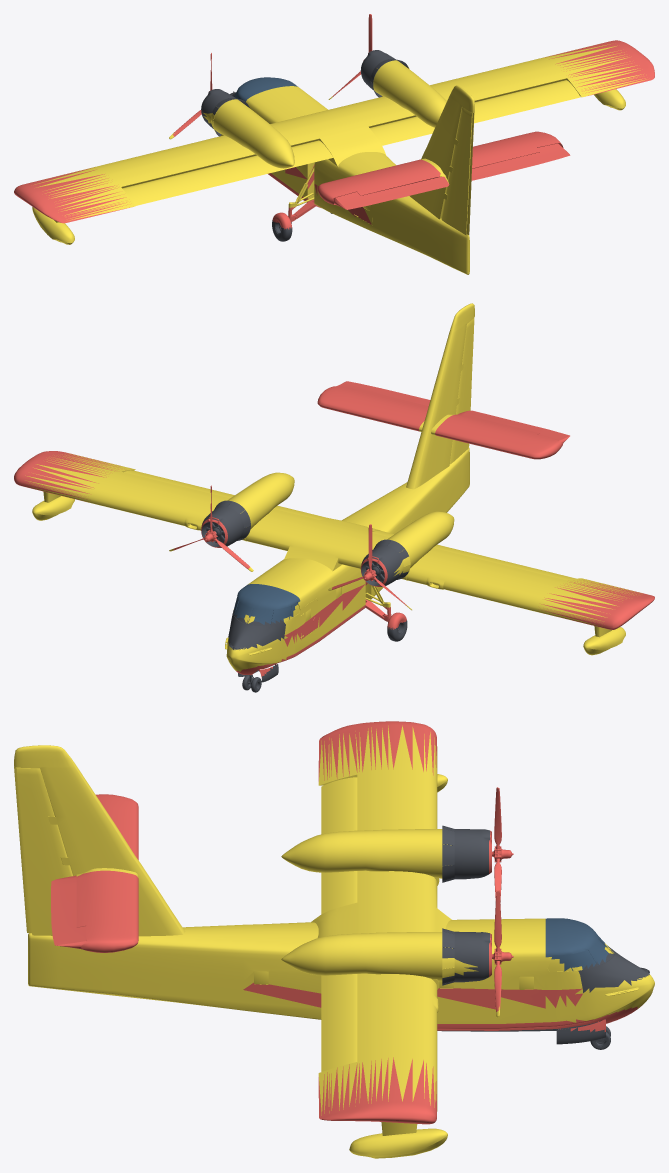
Rendered from amphibian.glb.
3 views of the same model, one above another, from view 1: azimuth 30°, elevation 25°; view 2: azimuth 150°, elevation 25°; view 3: azimuth 270°, elevation 25° (orthographic). The views are drawn at different scales.
Parts seen in each view (by area): view 1: Airframe, LandingGear, Fan Blades R; view 2: Airframe, LandingGear, Fan Blades L, Fan Blades R; view 3: Airframe, LandingGear, Fan Blades R, Fan Blades L.
Boxes of the visible parts, x1,y1,x2,y2 form: Airframe: (14,40,654,274); LandingGear: (268,173,332,241); Fan Blades R: (332,14,383,96); Airframe: (14,303,654,671); LandingGear: (236,598,407,692); Fan Blades L: (332,524,406,605); Fan Blades R: (173,485,249,569); Airframe: (14,721,654,1158); LandingGear: (437,1005,642,1049); Fan Blades R: (479,890,513,1011); Fan Blades L: (479,787,513,902).
Bounding box in the file's own units: 27.82 × 9.91 × 19.12.
